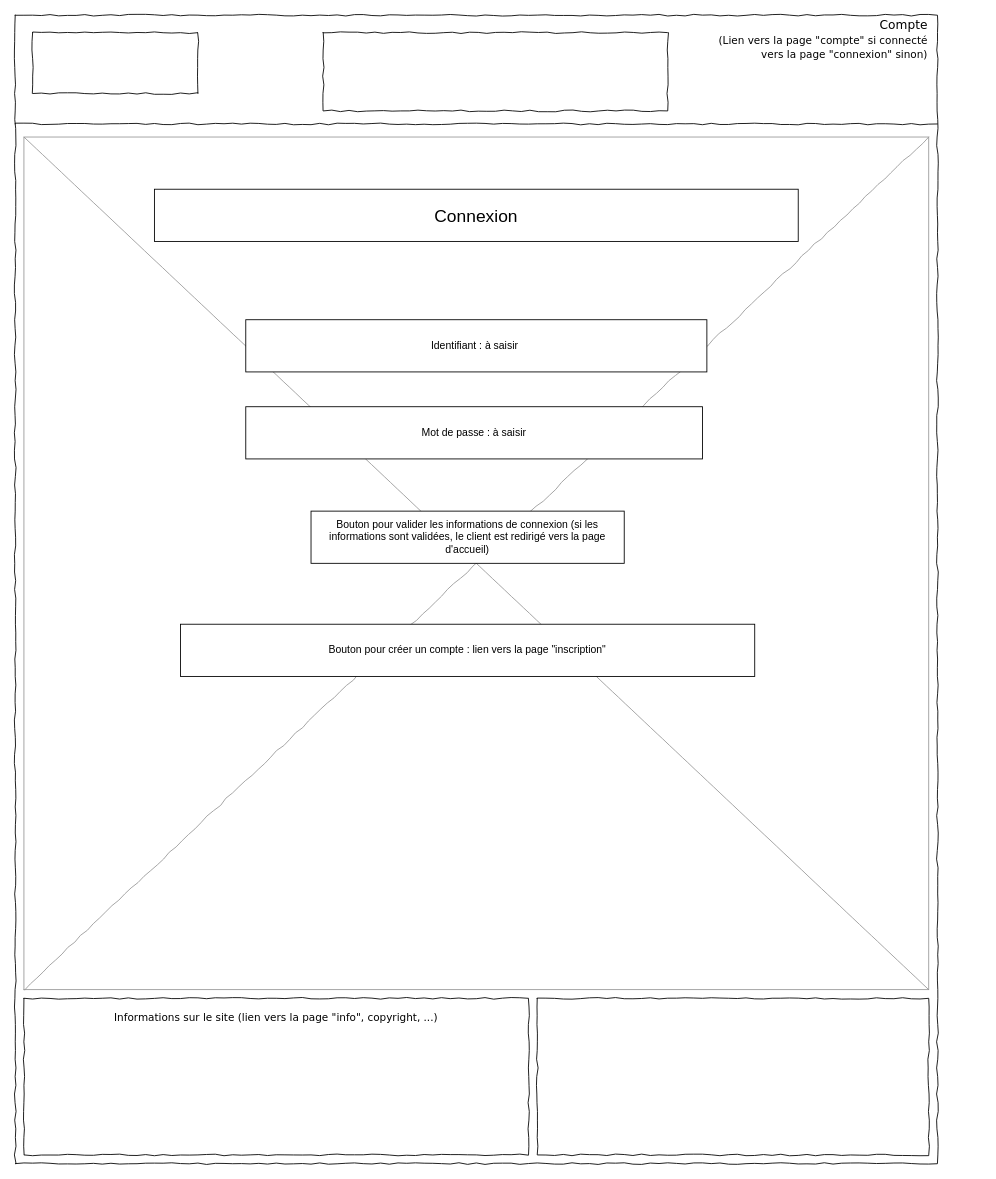
Image size: 996x1179. Some labels were removed from this diagram. The centre of each missing label's shape, as x and y in pixels:
Bienvenue ...: pixel 495 71
LOGO (Lien vers la page "accueil"): pixel 115 63
Nous contacter: pixel 732 1076
